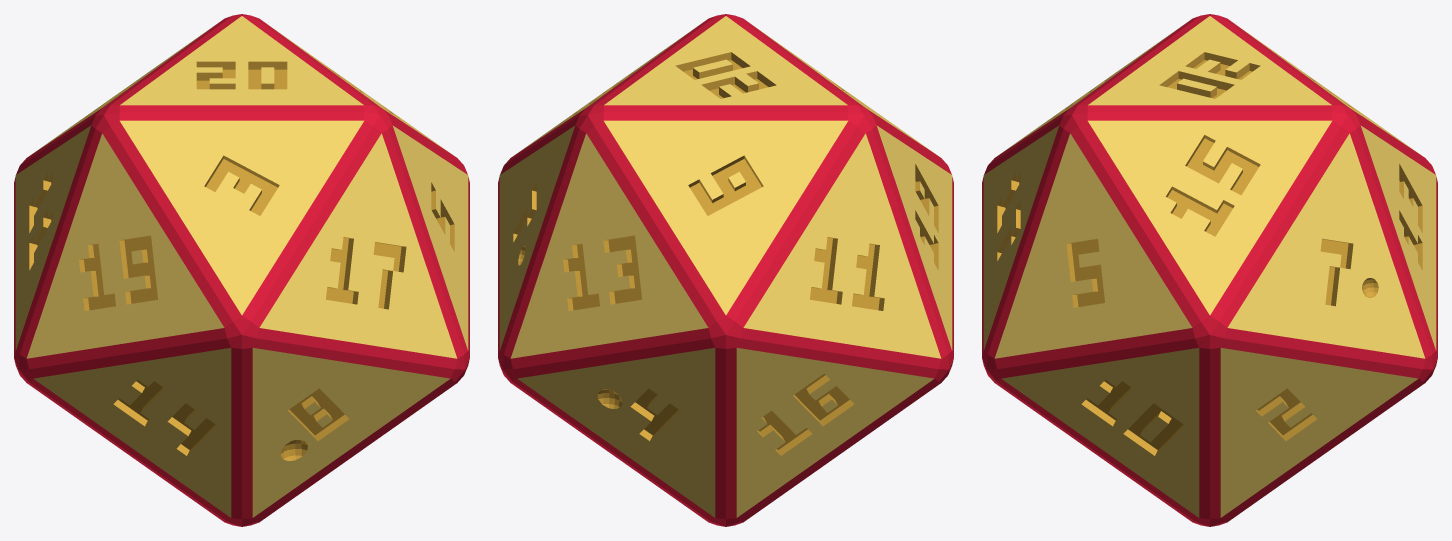
File: Die_Edam_d20.fbx
The picture shows the model from 3 angles, left to right: view 1: azimuth 30°, elevation 25°; view 2: azimuth 150°, elevation 25°; view 3: azimuth 270°, elevation 25°; orthographic projection.
Visible parts, largest first — view 1: Die_Edam_d20; view 2: Die_Edam_d20; view 3: Die_Edam_d20.
Boxes of the visible parts, x1,y1,x2,y2 form: Die_Edam_d20: [14, 14, 469, 526]; Die_Edam_d20: [498, 14, 953, 526]; Die_Edam_d20: [982, 14, 1437, 526].
Bounding box in the file's own units: 1.79 × 1.5 × 1.58.
